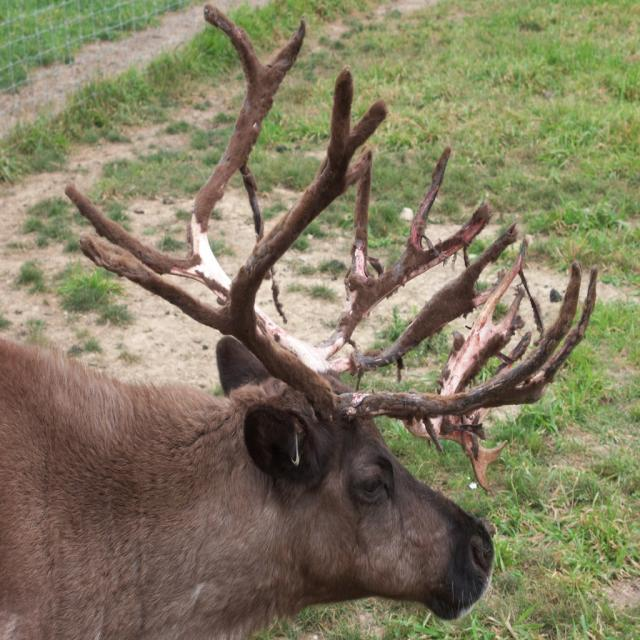Deer: (0, 5, 599, 640)
